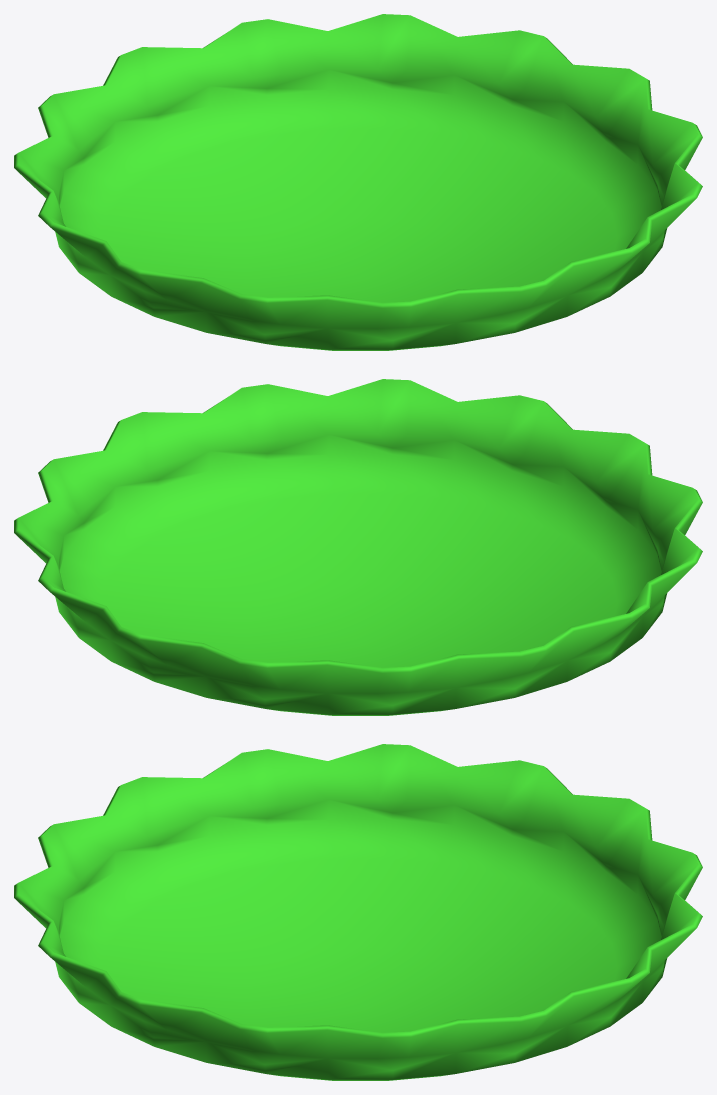
File: cap.fbx
3 views of the same model, one above another, from view 1: azimuth 30°, elevation 25°; view 2: azimuth 150°, elevation 25°; view 3: azimuth 270°, elevation 25° (orthographic).
Parts seen in each view (by area): view 1: cap; view 2: cap; view 3: cap.
Part boxes in pixels (x1,y1,x2,y2): cap: (14, 14, 702, 350); cap: (14, 379, 702, 715); cap: (14, 744, 702, 1080).
Size of the model in its own units: 228 by 45.77 by 227.
